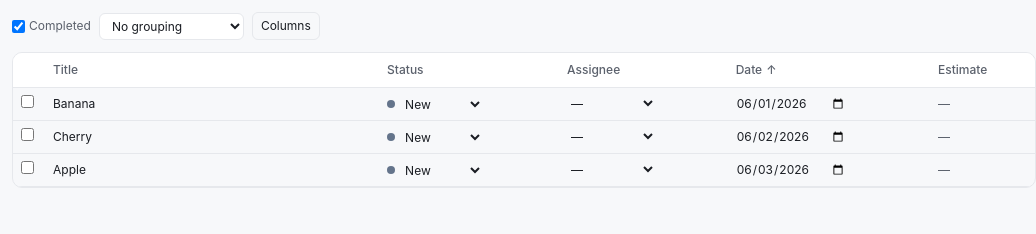
Test case: TableView › groups rows by status
Expected: the 3rd field showing "Apple" is shown, [53,161,371,179]
Step 1. Select "Group by status" in the dropdown named "Group by" → (171, 26), box [99,12,244,40]
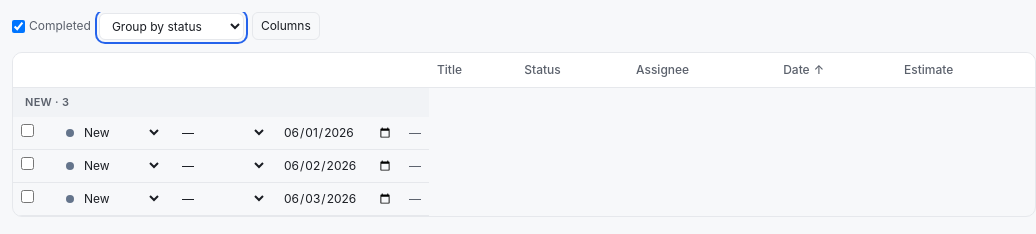
Expected: the text "New · 3" is shown, [13,88,429,116]
